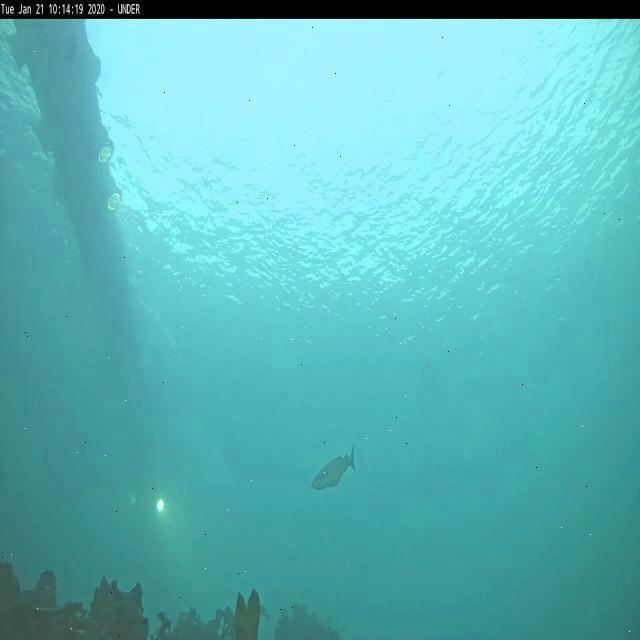fish: (312, 448, 358, 487)
